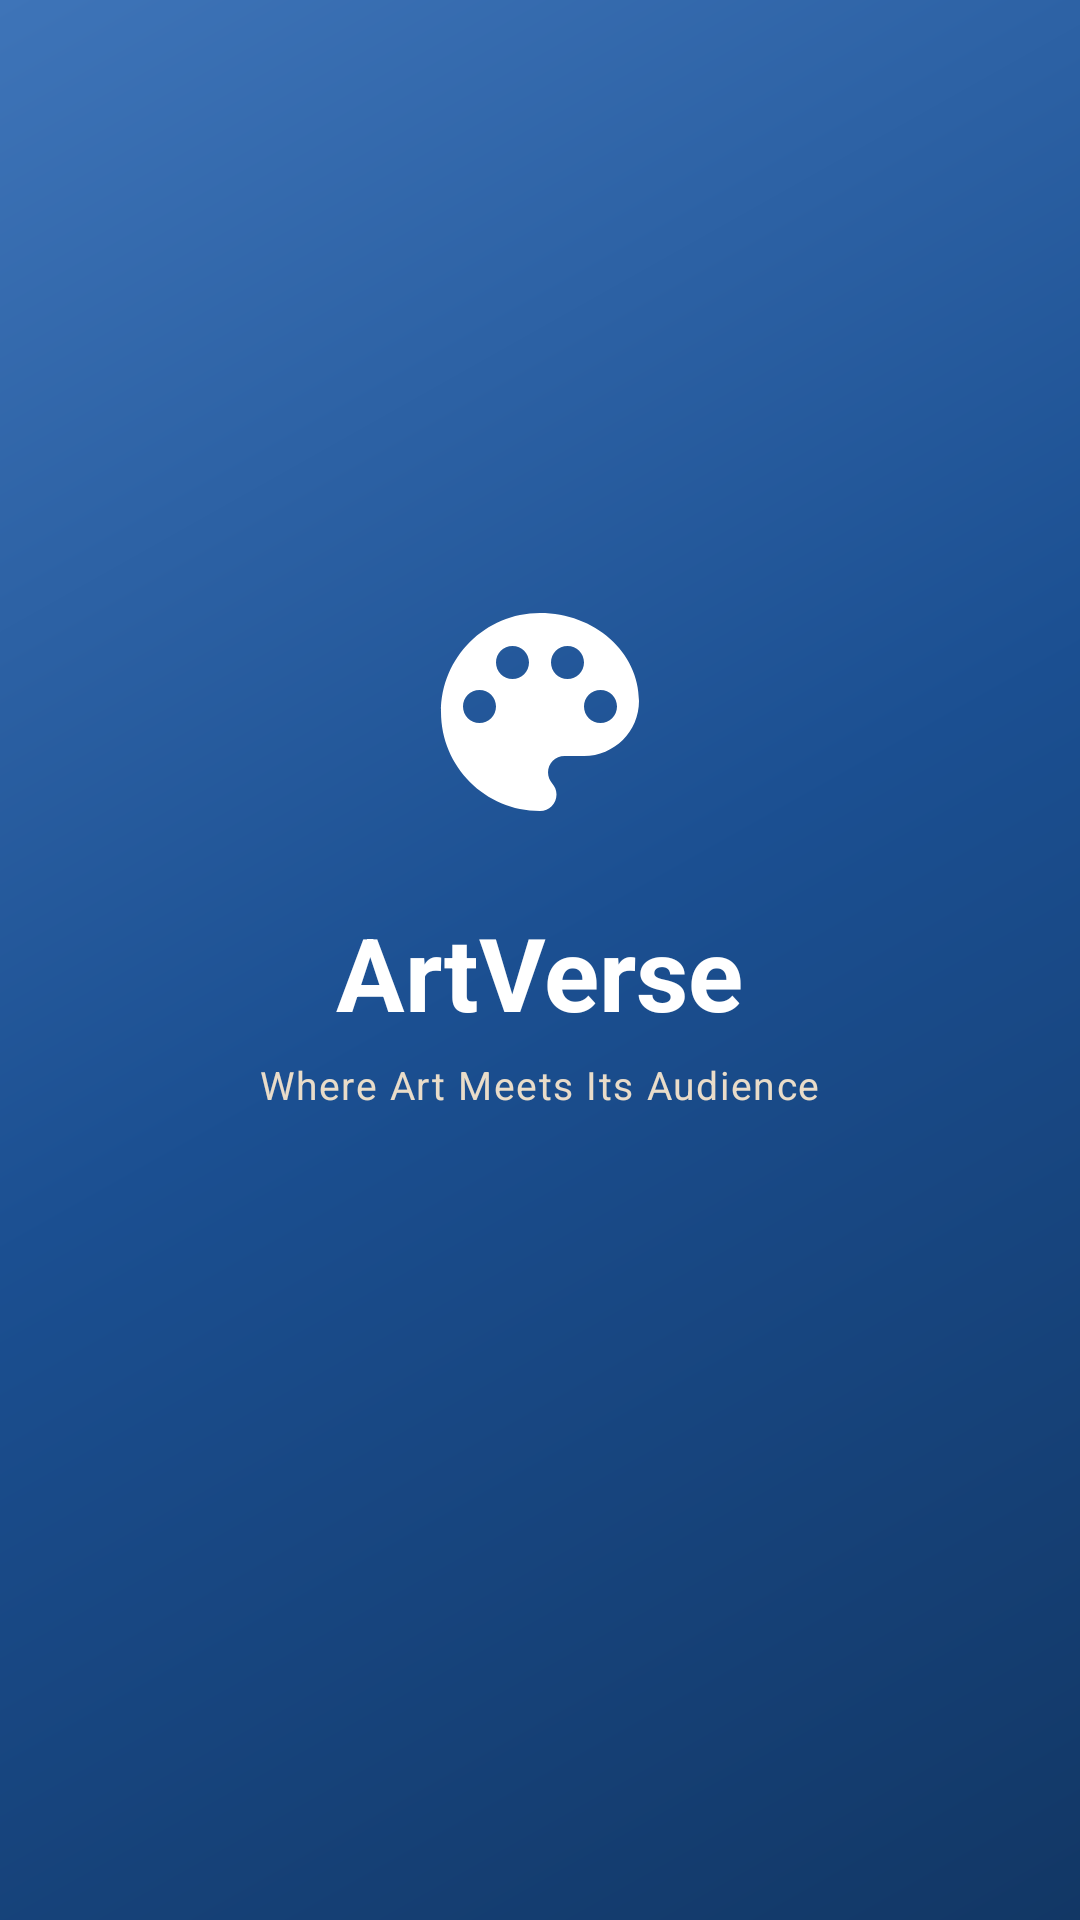

Icons on this 1080w x 1920h Android screen, each with the point to tap as (x,y):
palette: (540,712)
